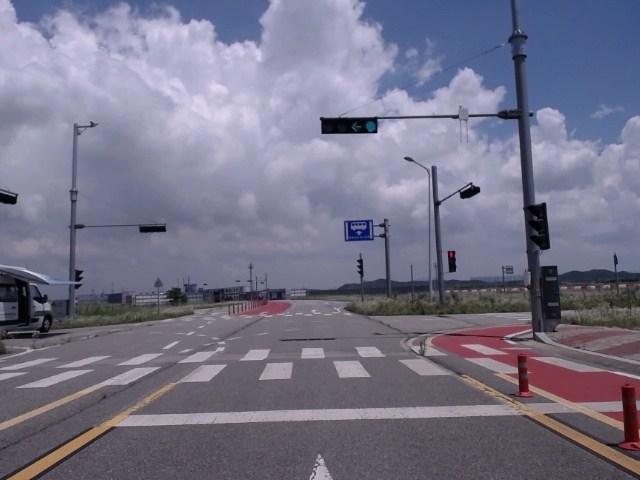all_green_4: (318, 116, 376, 134)
